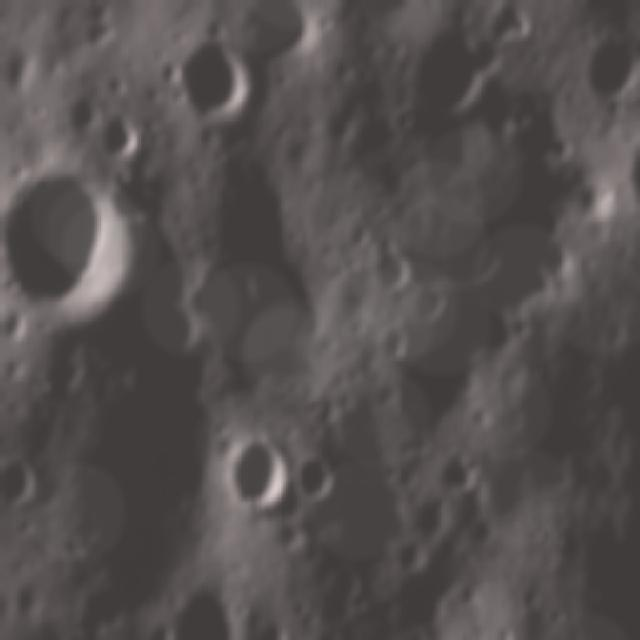crater: (0, 162, 145, 326), (394, 19, 491, 119), (160, 39, 258, 122), (428, 190, 509, 290), (221, 428, 296, 515), (237, 0, 317, 69), (584, 30, 640, 107), (359, 228, 421, 288), (565, 172, 618, 234), (98, 100, 152, 157), (290, 448, 344, 504), (63, 79, 111, 136), (0, 453, 46, 509), (365, 316, 413, 364), (434, 447, 478, 498), (403, 277, 445, 323), (247, 606, 287, 640)
